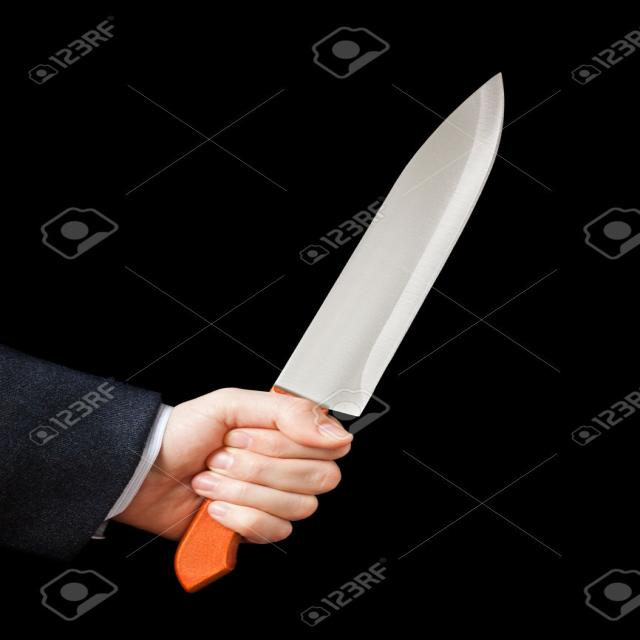knife: (162, 70, 514, 601)
